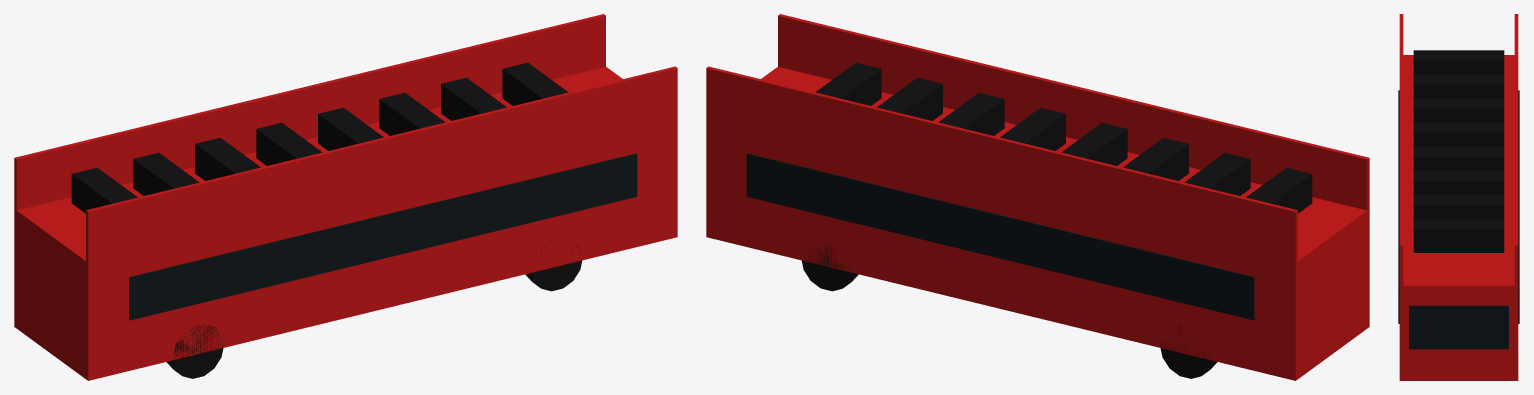
Rendered from AutobusTuristico.obj.
The picture shows the model from 3 angles, left to right: view 1: azimuth 30°, elevation 25°; view 2: azimuth 150°, elevation 25°; view 3: azimuth 270°, elevation 25°; orthographic projection. The views are drawn at different scales.
Visible parts, largest first — view 1: AutobusTuristico; view 2: AutobusTuristico; view 3: AutobusTuristico.
Part boxes in pixels (x1,y1,x2,y2): AutobusTuristico: (14,14,677,380); AutobusTuristico: (706,14,1369,380); AutobusTuristico: (1398,14,1519,380).
Bounding box in the file's own units: 11.52 × 3.59 × 2.55.
